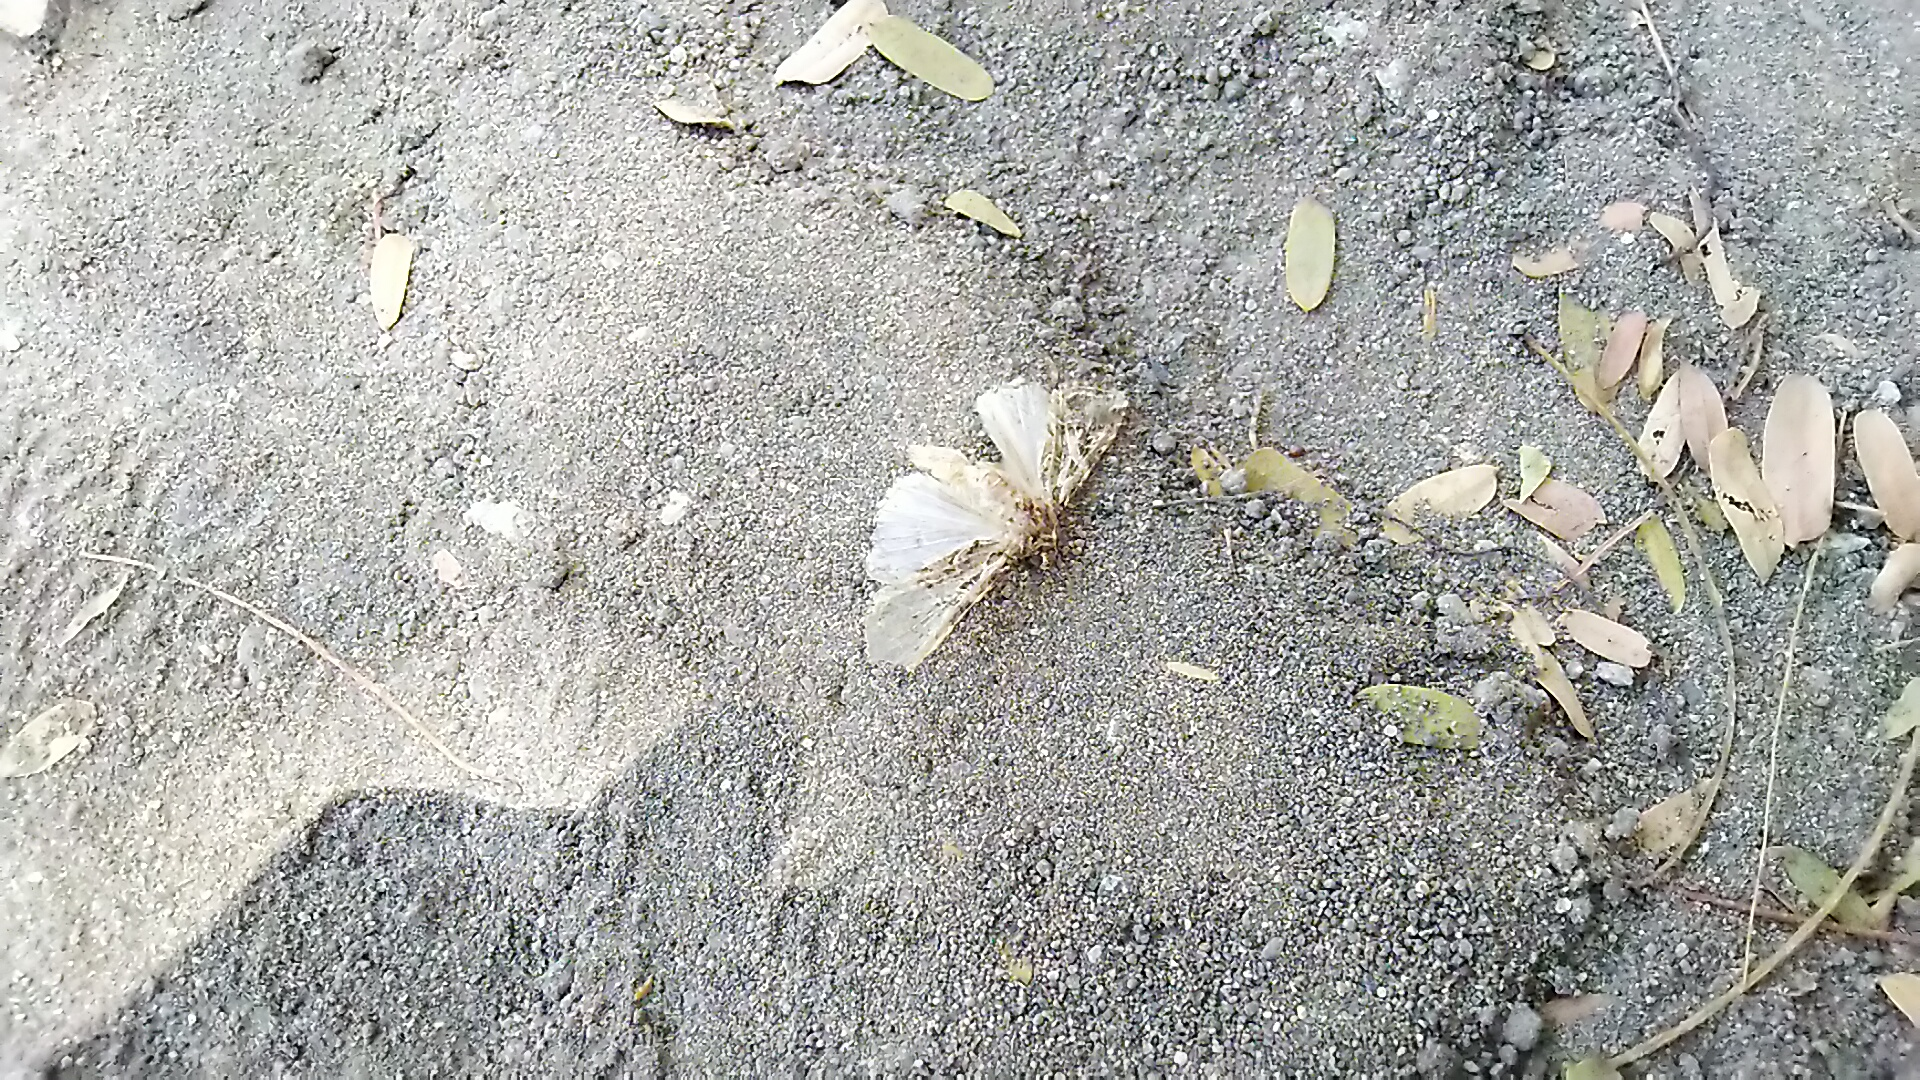INS-B: (843, 353, 1160, 658)
